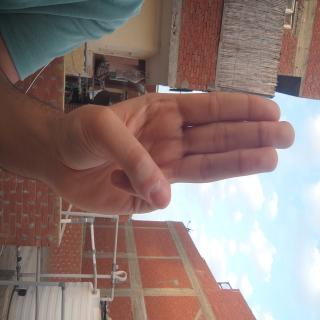THA: (67, 30, 166, 320)
